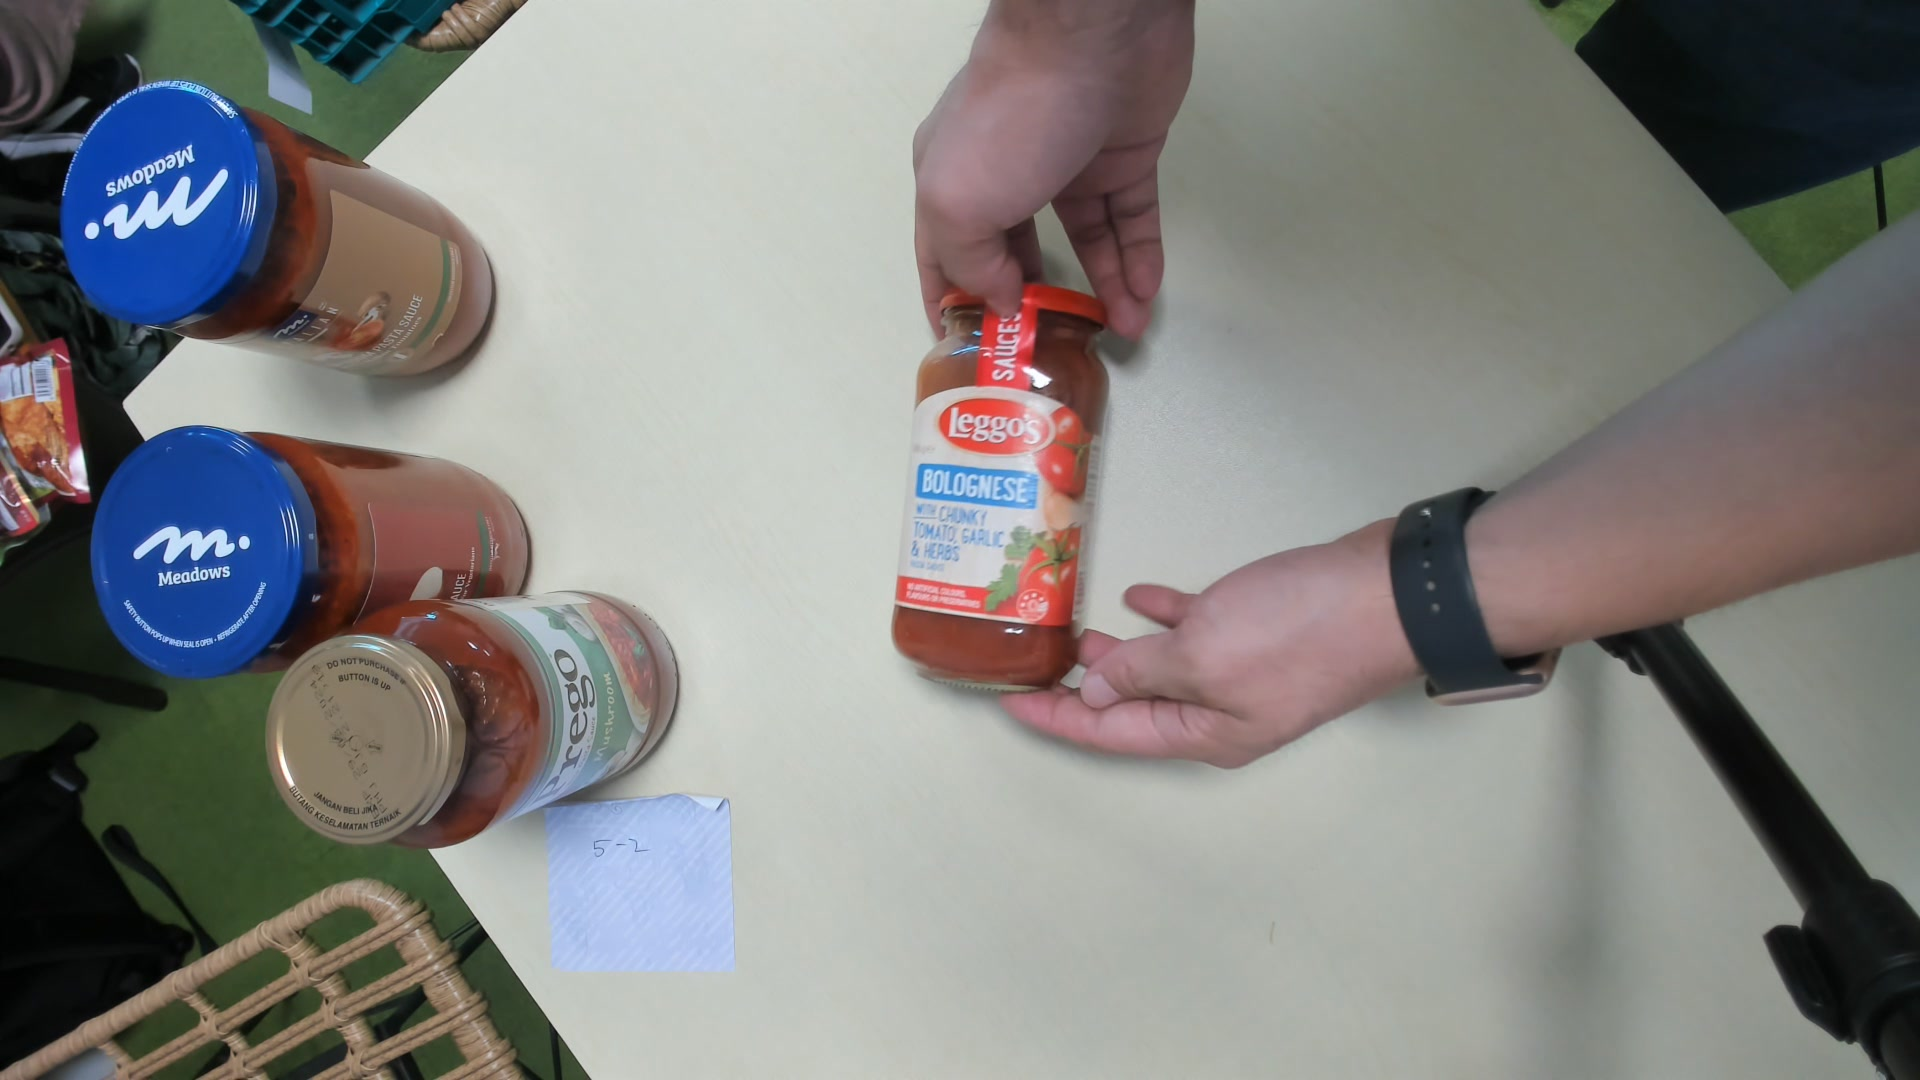PastaSauce_500-599g_Halal_NonHealthy: (890, 284, 1110, 684)
